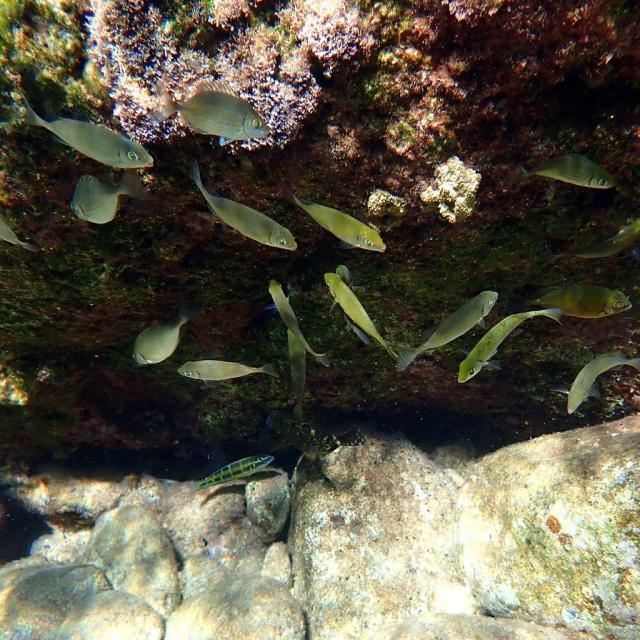Sokar Baligi: (145, 66, 276, 158), (277, 170, 397, 262), (499, 140, 622, 206), (126, 286, 212, 376)
